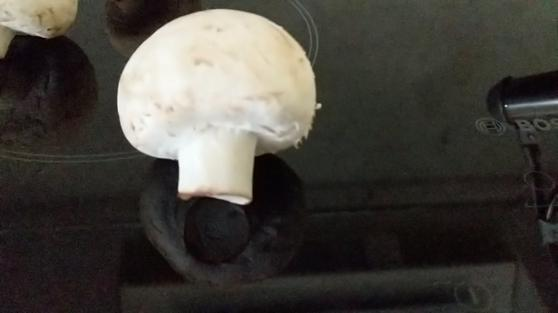champignon: (117, 6, 318, 203)
